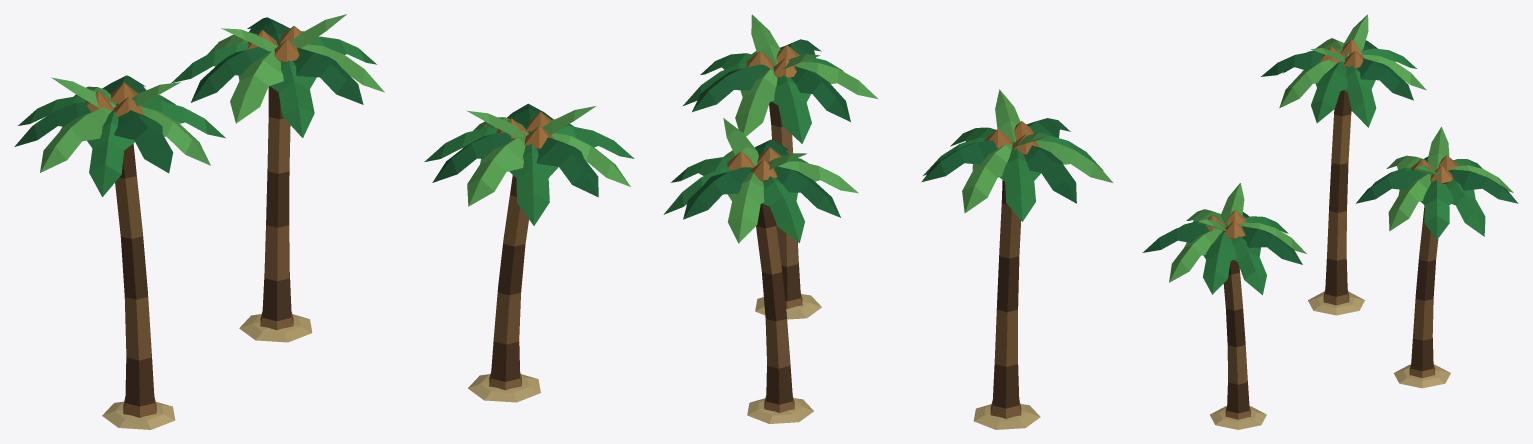
Rendered from Decor_BeachBar_PalmTrees.fbx.
3 renders of one model, left to right at view 1: azimuth 30°, elevation 25°; view 2: azimuth 150°, elevation 25°; view 3: azimuth 270°, elevation 25°, orthographic. The views are drawn at different scales.
Visible parts, largest first — view 1: PalmTrees_Body; view 2: PalmTrees_Body; view 3: PalmTrees_Body.
Boxes of the visible parts, x1,y1,x2,y2 form: PalmTrees_Body: (14,14,634,429); PalmTrees_Body: (663,14,1112,429); PalmTrees_Body: (1142,14,1518,429).
Bounding box in the file's own units: 35.41 × 21.9 × 28.41.
